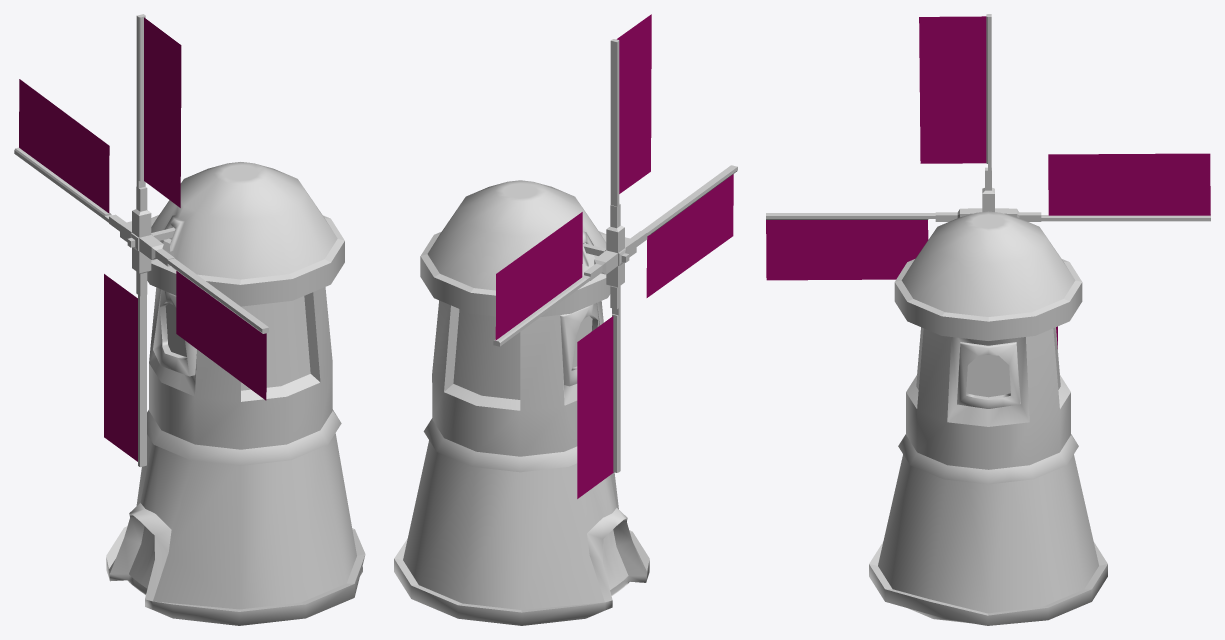
File: WindMill.fbx
3 renders of one model, left to right at view 1: azimuth 30°, elevation 25°; view 2: azimuth 150°, elevation 25°; view 3: azimuth 270°, elevation 25°, orthographic. The views are drawn at different scales.
Parts seen in each view (by area): view 1: pCylinder1, WIndMIL_turbine4; view 2: pCylinder1, WIndMIL_turbine4; view 3: pCylinder1, WIndMIL_turbine4.
Boxes of the visible parts, x1=… form: pCylinder1: x1=106, y1=162, x2=365, y2=625; WIndMIL_turbine4: x1=14, y1=14, x2=268, y2=467; pCylinder1: x1=394, y1=180, x2=649, y2=625; WIndMIL_turbine4: x1=493, y1=14, x2=737, y2=498; pCylinder1: x1=869, y1=211, x2=1107, y2=625; WIndMIL_turbine4: x1=766, y1=14, x2=1210, y2=348.
Bounding box in the file's own units: 14.27 × 34.79 × 26.97.
